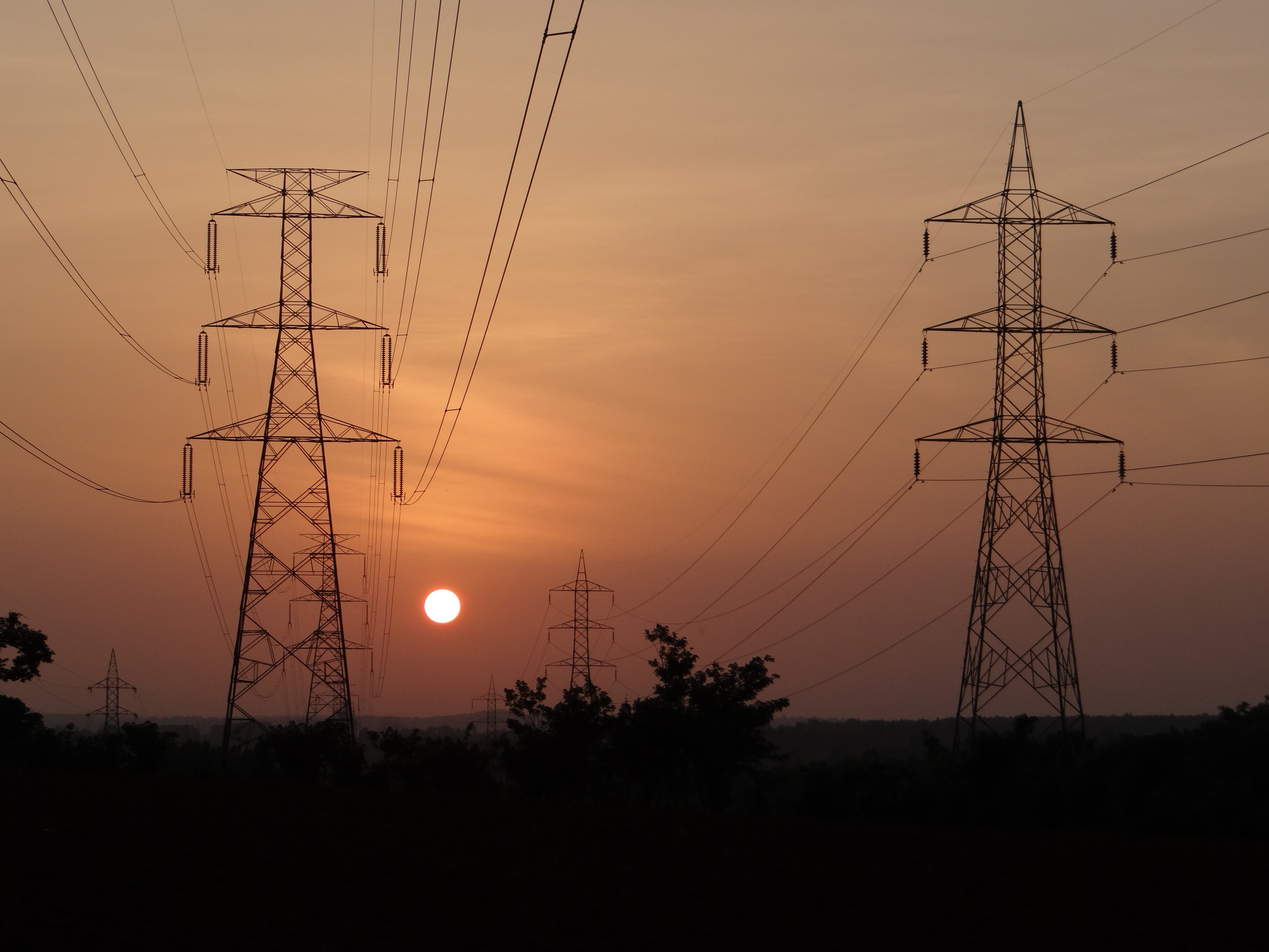insulator: (179, 440, 200, 503), (194, 328, 211, 390), (380, 330, 394, 387), (375, 219, 388, 276), (205, 216, 218, 272), (1117, 445, 1133, 488), (392, 443, 404, 500), (1102, 228, 1122, 262), (917, 329, 932, 371), (913, 438, 924, 479), (1109, 336, 1121, 373), (920, 225, 932, 259)
